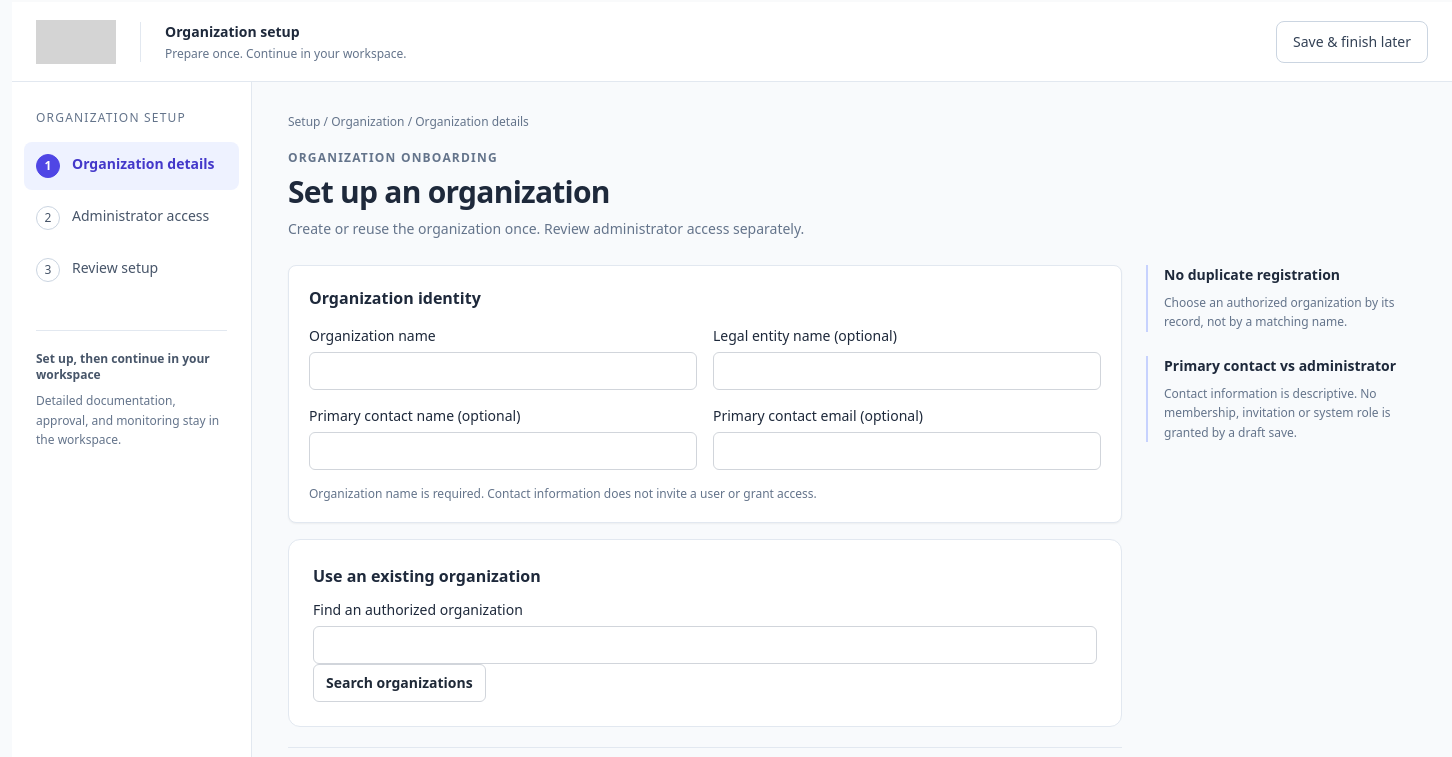
CSP Add Organization approved flow › reconciles only an exact same-request uncertain draft save without adopting foreign edits
Type "Retained exact request" into the field labelled "Organization name". click: point(503, 371)
box: [309,352,697,390]
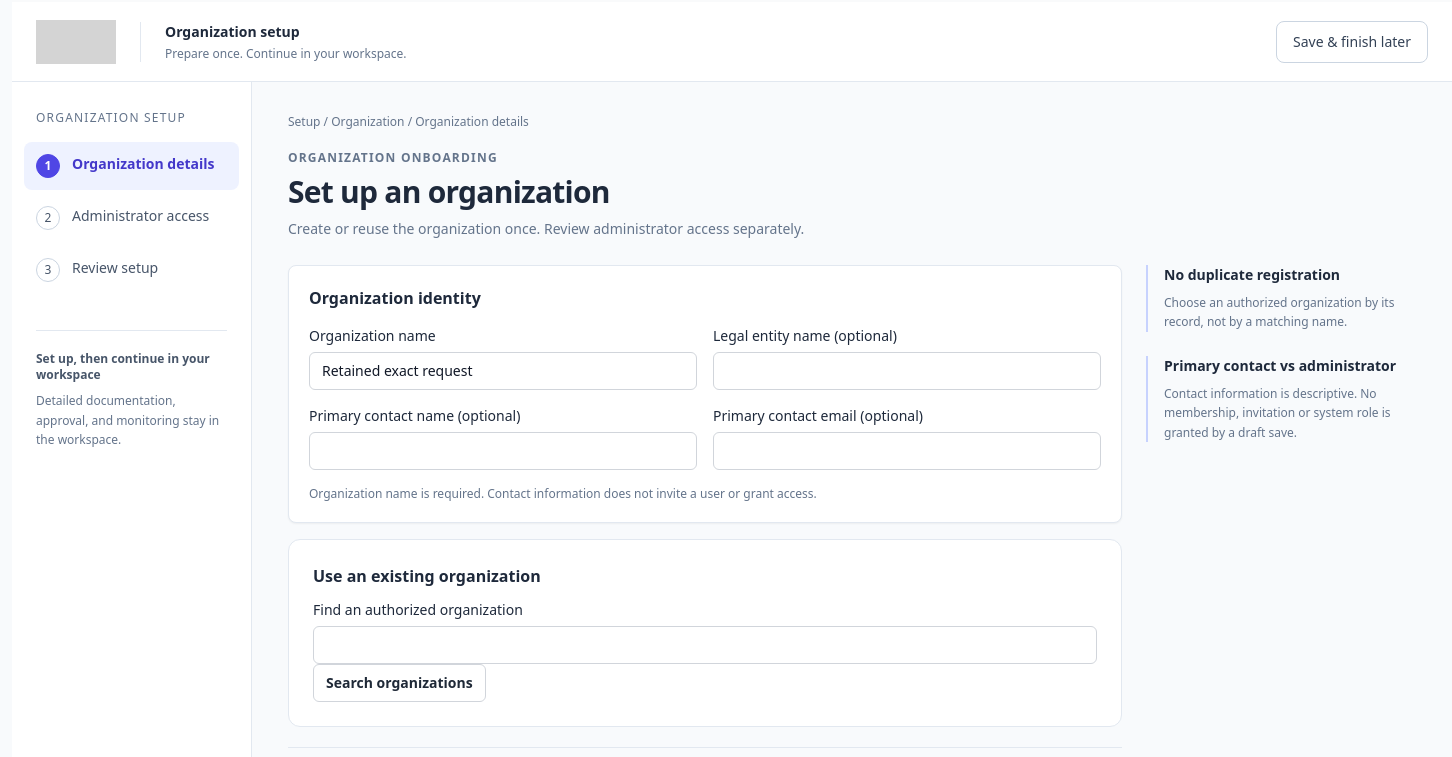
Click the button "Save & finish later". click: point(1352, 42)
box: [1276,20,1428,62]
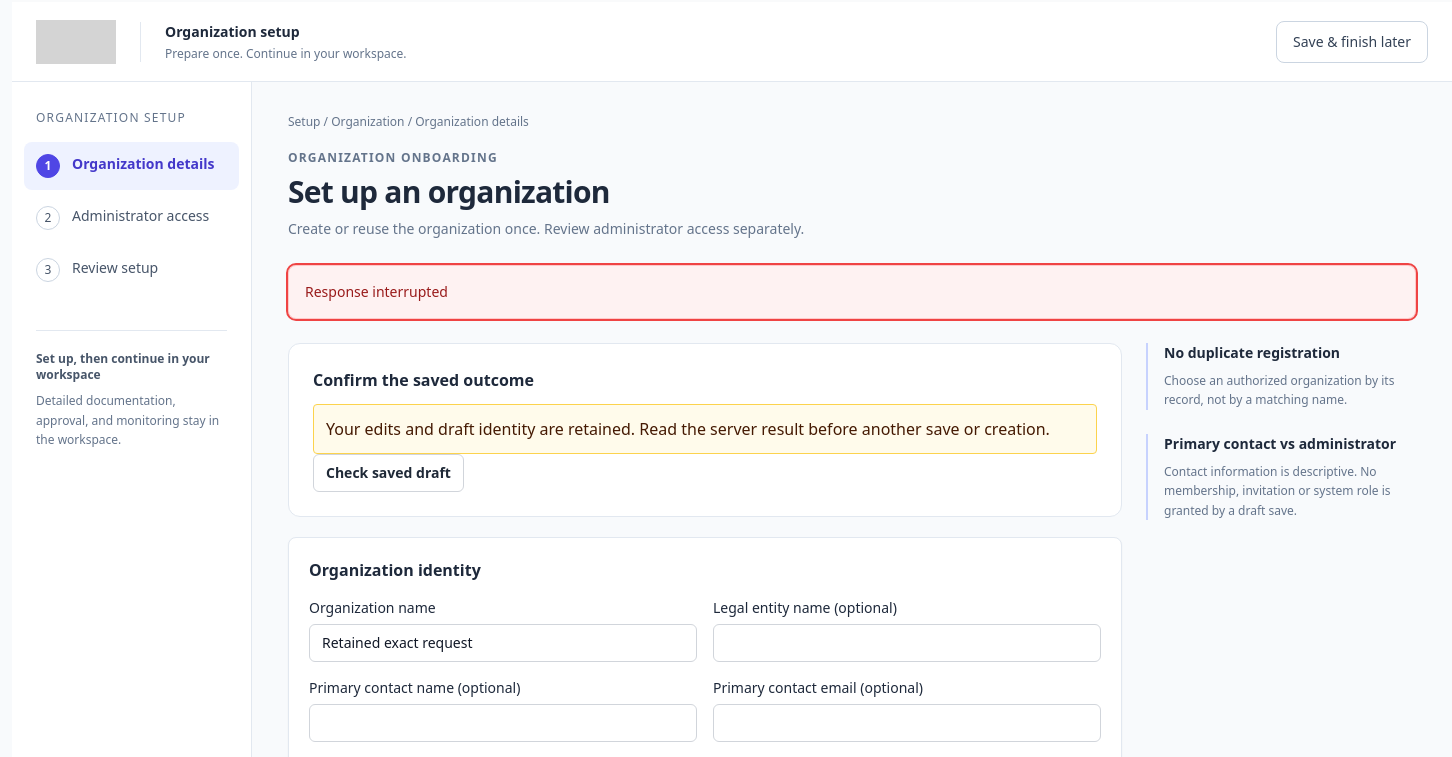
Click the button "Check saved draft". click: point(388, 473)
box: [313,454,464,492]
(page scrolled)
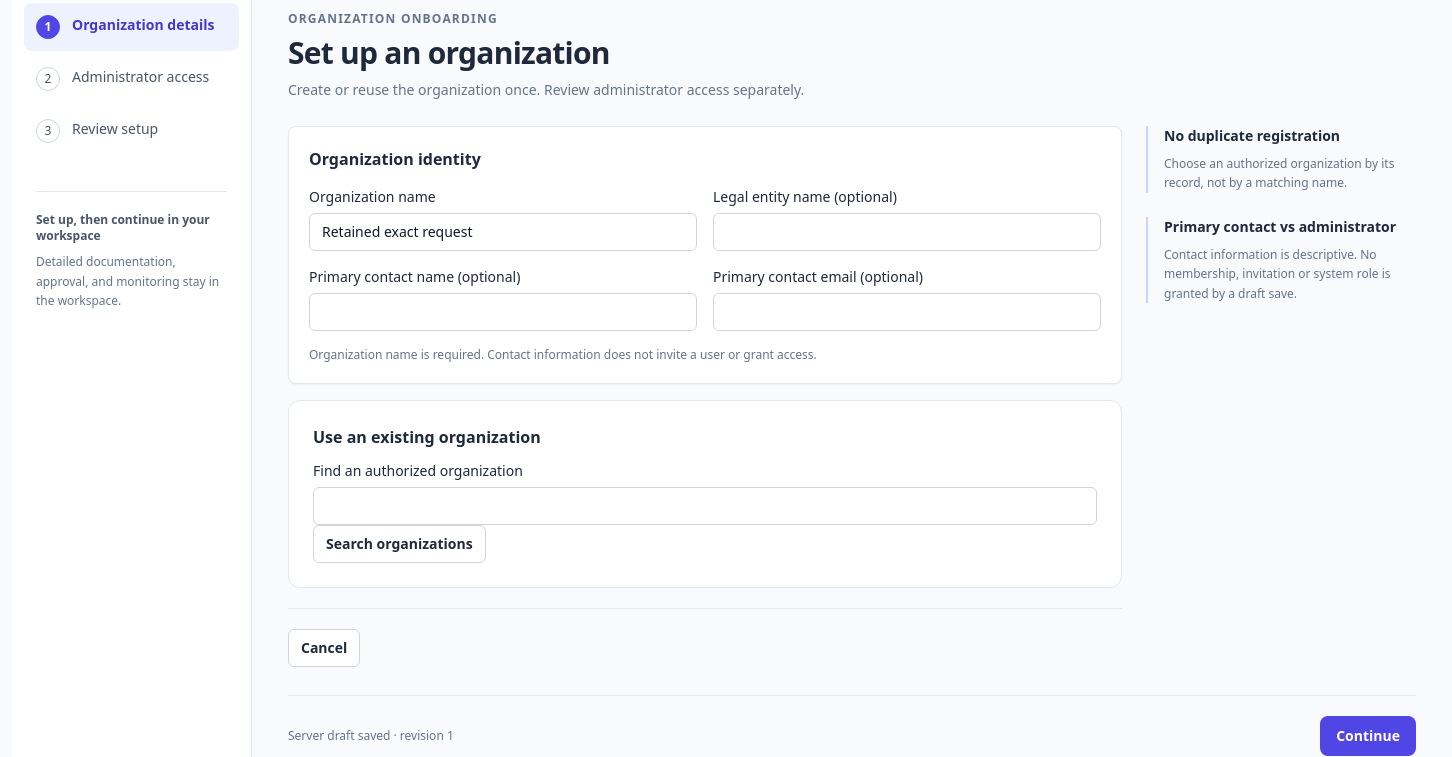
Expected: the button "Check saved draft" is gone
Expected: the text "Server draft saved · revision 1" is shown, [288,727,454,744]
